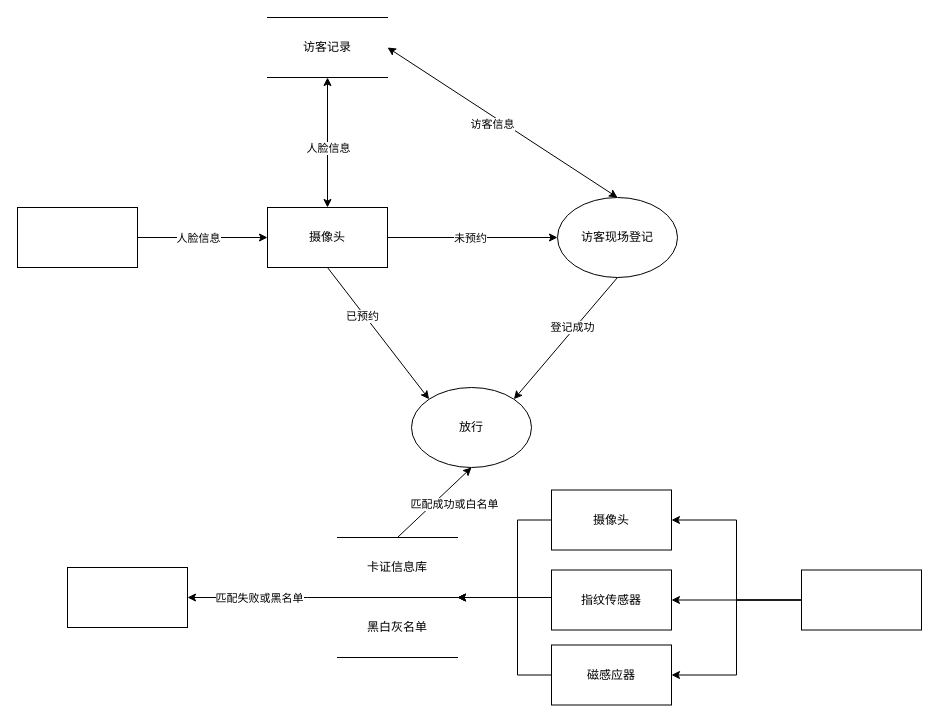
The diagram is 939 pixels wide and 723 high, and some of its shapes have lost their labels. The box of each missing label's shape, as (x1, y1, x2, y2) in pixels:
内部人员或白名单: (800, 569, 922, 630)
蜂鸣器: (66, 566, 188, 628)
访客: (16, 206, 138, 268)
